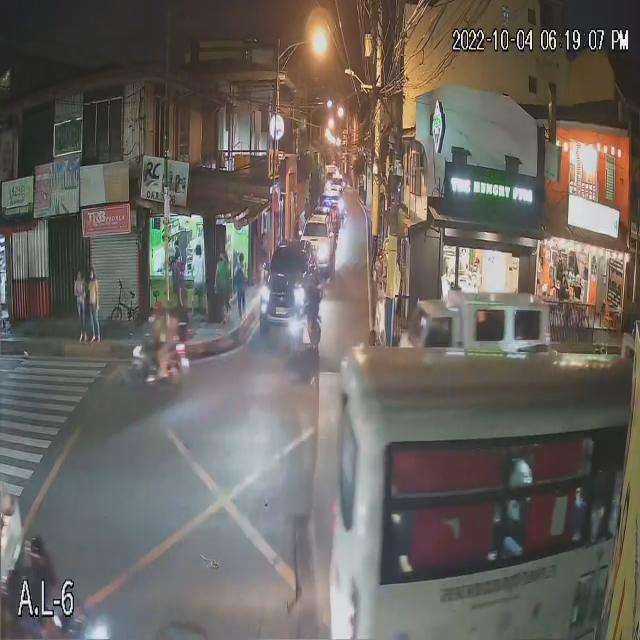motorcycle: (129, 349, 193, 384)
rider: (158, 323, 175, 363)
